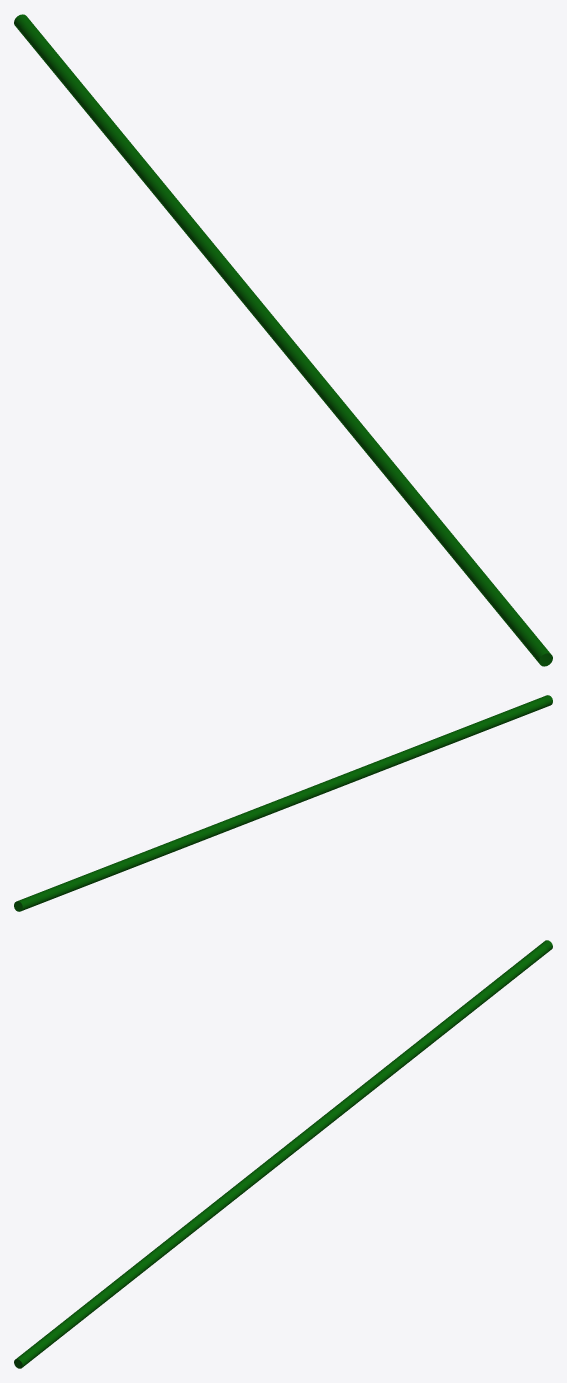
The model's file is Event_127732675_jet_0.fbx.
3 renders of one model, top to bottom at view 1: azimuth 30°, elevation 25°; view 2: azimuth 150°, elevation 25°; view 3: azimuth 330°, elevation 25°, orthographic. The views are drawn at different scales.
Parts seen in each view (by area): view 1: Model; view 2: Model; view 3: Model.
Boxes of the visible parts, <box> form: Model: <box>14,14,552,666</box>; Model: <box>14,695,552,911</box>; Model: <box>14,940,552,1368</box>.
Size of the model in its own units: 0.3685 by 0.4719 by 3.34.
